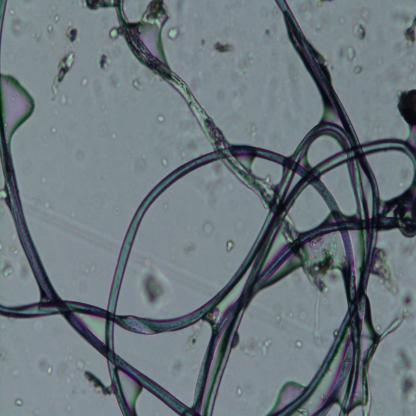Air bubble: (0, 67, 39, 140), (272, 374, 302, 408)
Background material: (326, 37, 365, 78), (139, 264, 172, 310), (206, 164, 234, 218), (396, 342, 416, 408), (26, 345, 56, 386), (52, 51, 78, 98), (373, 245, 396, 289), (310, 290, 326, 345), (302, 4, 330, 35), (80, 371, 112, 396), (124, 66, 149, 94), (7, 7, 29, 35), (268, 300, 286, 334), (61, 360, 80, 388), (245, 337, 272, 356), (237, 53, 258, 76), (403, 14, 416, 46), (52, 92, 70, 115), (182, 134, 198, 157), (242, 119, 258, 140), (214, 38, 236, 53), (352, 21, 367, 41), (357, 2, 373, 20), (97, 51, 111, 70), (77, 68, 91, 86), (109, 74, 124, 90), (400, 241, 411, 262), (261, 28, 273, 47), (168, 26, 182, 42), (0, 261, 16, 275), (48, 7, 62, 23), (293, 338, 307, 354), (398, 294, 415, 307), (43, 190, 54, 210), (12, 392, 25, 408), (67, 25, 78, 43), (201, 224, 215, 238), (108, 26, 120, 42), (158, 154, 170, 170), (223, 236, 235, 248), (233, 383, 242, 399), (32, 30, 43, 43), (156, 110, 166, 124), (0, 351, 10, 363), (44, 24, 55, 34), (339, 16, 347, 25), (49, 126, 57, 134)
Cellulose filter fibre: (96, 1, 324, 289), (360, 310, 408, 414)
Diatom: (399, 86, 416, 127)
Microfibre: (204, 131, 416, 416), (107, 147, 218, 415), (58, 302, 200, 414), (273, 1, 358, 146), (0, 115, 62, 302), (0, 298, 236, 336), (0, 0, 11, 51)
